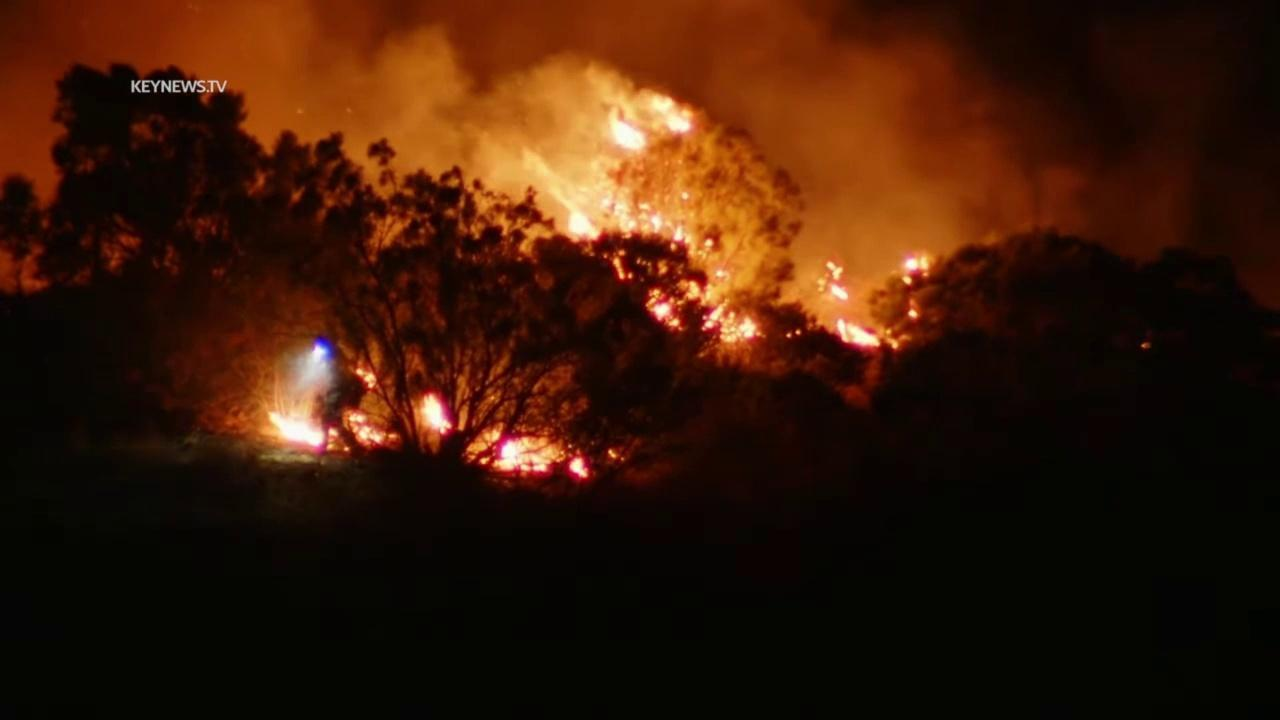fire: (564, 189, 766, 342), (265, 405, 401, 451), (474, 430, 553, 474), (414, 391, 455, 435), (654, 95, 696, 135), (814, 261, 853, 302), (607, 116, 649, 154), (834, 317, 881, 346), (900, 254, 934, 286), (354, 366, 381, 390), (566, 455, 590, 482), (884, 326, 900, 349), (604, 447, 626, 463), (903, 306, 920, 322)
smoke: (0, 0, 1280, 319)
